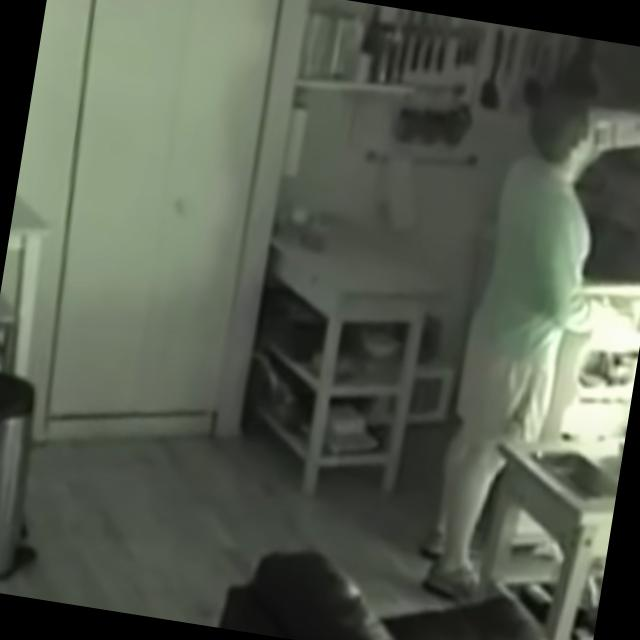person: (415, 73, 640, 620)
